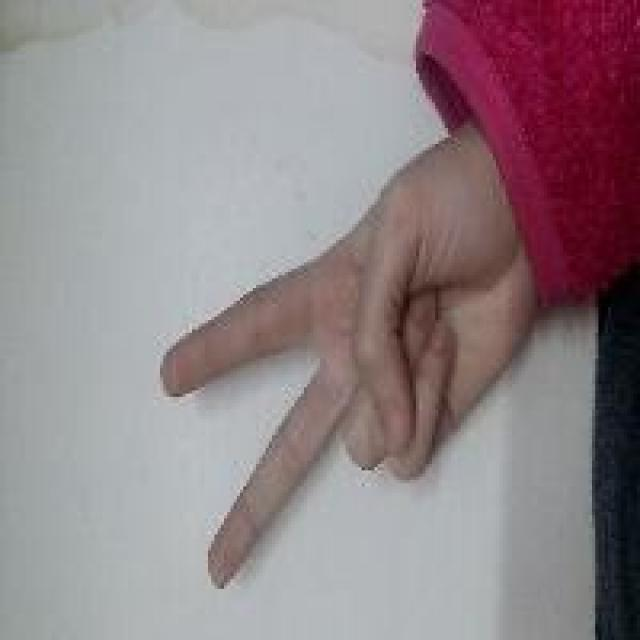V: (48, 152, 474, 514)
